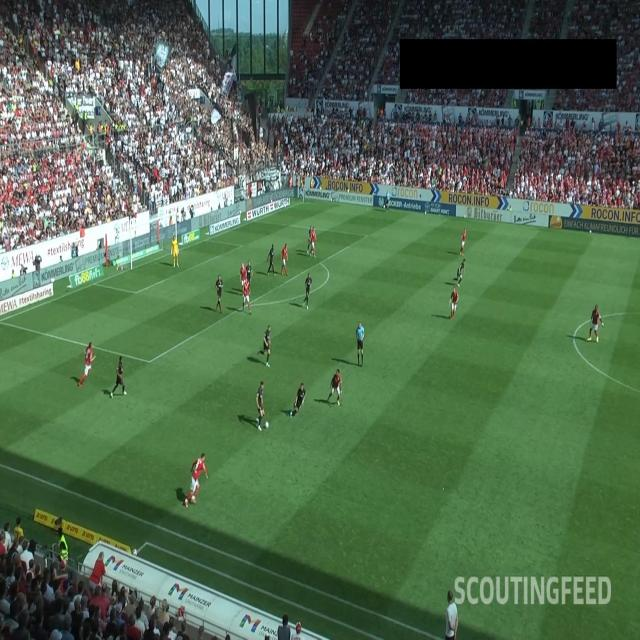ball: (265, 421, 269, 429)
